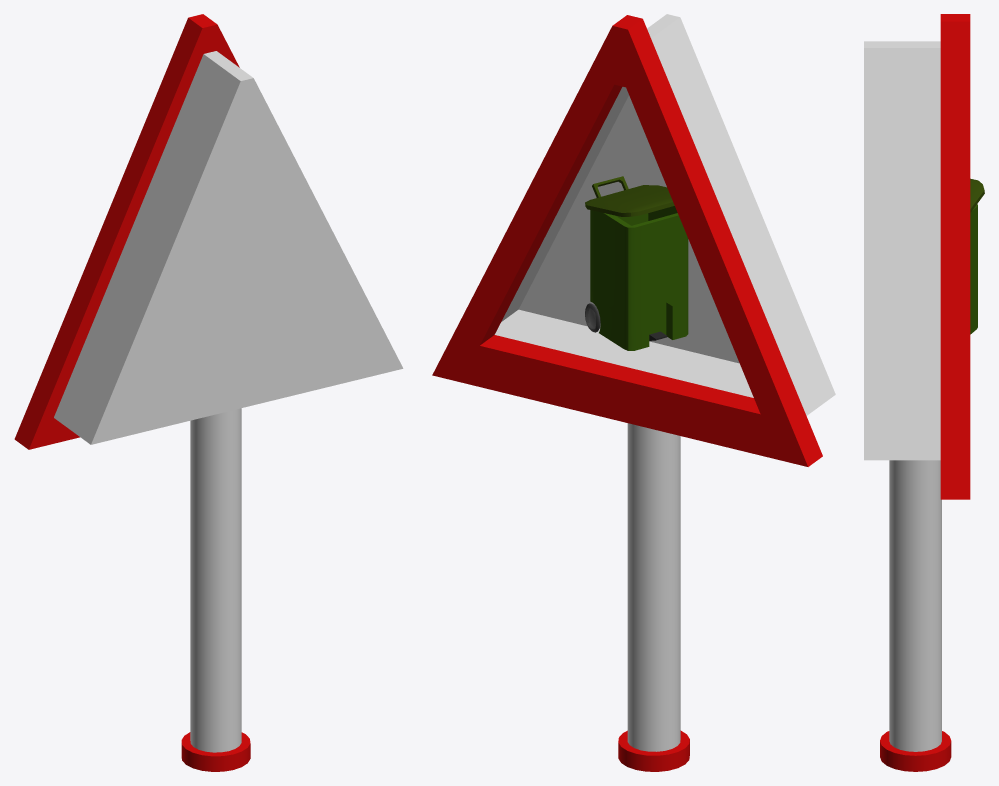
The model's file is Sign1.fbx.
The picture shows the model from 3 angles, left to right: view 1: azimuth 30°, elevation 25°; view 2: azimuth 150°, elevation 25°; view 3: azimuth 270°, elevation 25°; orthographic projection. The views are drawn at different scales.
Parts seen in each view (by area): view 1: pasted__pCube1, pasted__pCylinder2, pasted__pCube2, pasted__pCylinder4; view 2: pasted__pCube2, pasted__pCube1, pasted__pCylinder2, Çöp_kovası1, kapak, pasted__pCylinder4; view 3: pasted__pCube1, pasted__pCylinder2, pasted__pCube2, pasted__pCylinder4, Çöp_kovası1, kapak.
Part boxes in pixels (box(x1,y1,x2,y2)): pasted__pCube1: box(54, 51, 403, 444); pasted__pCylinder2: box(190, 408, 241, 752); pasted__pCube2: box(14, 14, 239, 449); pasted__pCylinder4: box(181, 732, 250, 771); pasted__pCube2: box(432, 15, 822, 466); pasted__pCube1: box(494, 14, 835, 415); pasted__pCylinder2: box(627, 423, 680, 751); Çöp_kovası1: box(590, 206, 688, 350); kapak: box(585, 185, 674, 216); pasted__pCylinder4: box(618, 730, 689, 771); pasted__pCube1: box(864, 41, 940, 460); pasted__pCylinder2: box(889, 460, 941, 751); pasted__pCube2: box(940, 14, 970, 499); pasted__pCylinder4: box(880, 731, 951, 771); Çöp_kovası1: box(970, 204, 977, 334); kapak: box(970, 178, 984, 212).
Bounding box in the file's own units: 4.35 × 8.27 × 1.22.
